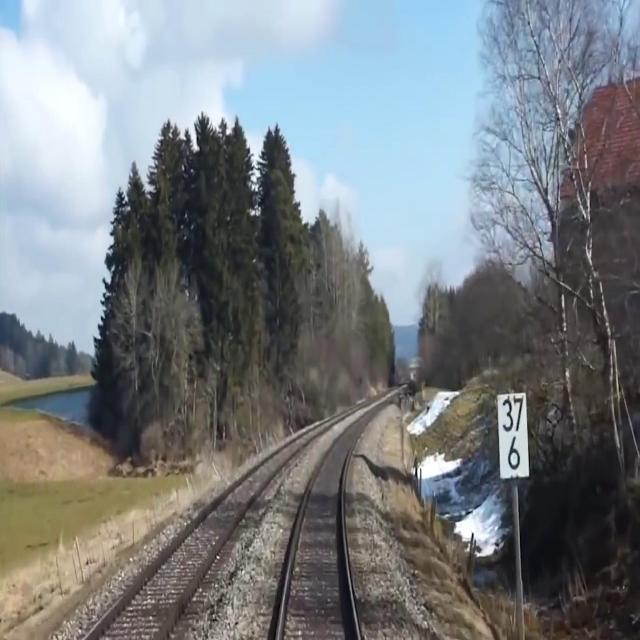rail-track: (90, 437, 305, 639), (280, 414, 370, 639)
